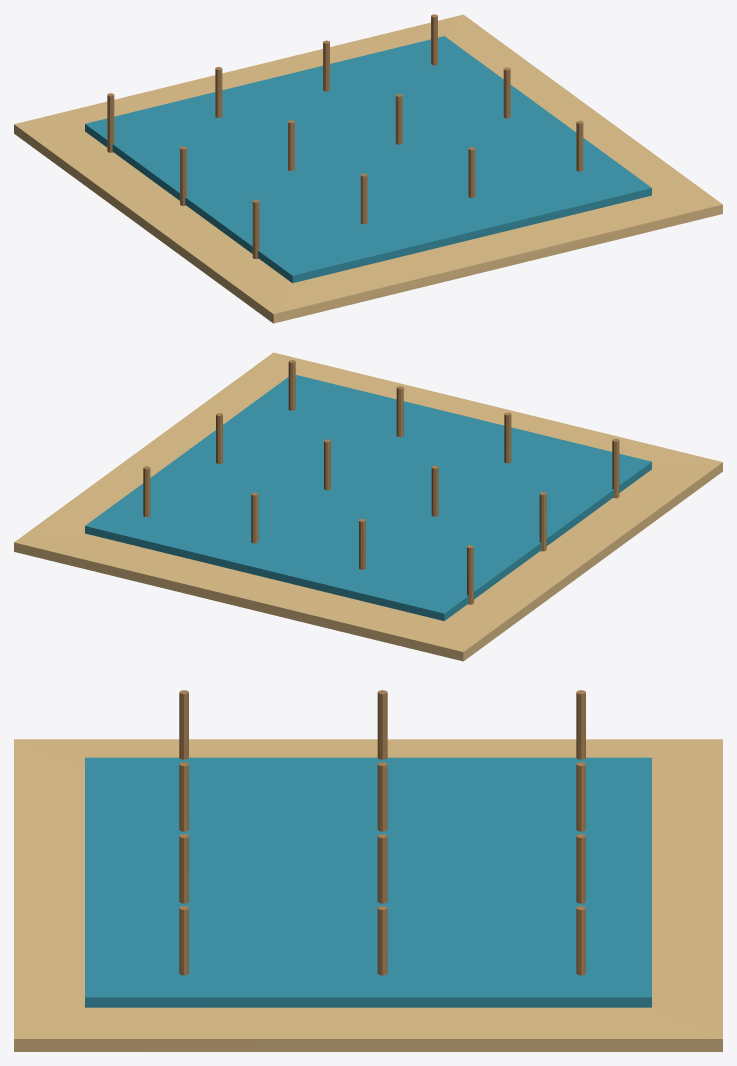
Rendered from wetland.source.glb.
3 renders of one model, top to bottom at view 1: azimuth 30°, elevation 25°; view 2: azimuth 150°, elevation 25°; view 3: azimuth 270°, elevation 25°, orthographic. The views are drawn at different scales.
Visible parts, largest first — view 1: wetland-water-mesh, wetland-base-mesh; view 2: wetland-water-mesh, wetland-base-mesh; view 3: wetland-water-mesh, wetland-base-mesh, wetland-reed-4-mesh, wetland-reed-5-mesh, wetland-reed-7-mesh, wetland-reed-6-mesh, wetland-reed-9-mesh, wetland-reed-2-mesh, wetland-reed-10-mesh, wetland-reed-0-mesh, wetland-reed-1-mesh, wetland-reed-3-mesh (+2 smaller).
Boxes of the visible parts, left/top/right/bottom form: wetland-water-mesh: left=85, top=36, right=651, bottom=283; wetland-base-mesh: left=14, top=14, right=722, bottom=323; wetland-water-mesh: left=85, top=375, right=651, bottom=620; wetland-base-mesh: left=14, top=352, right=722, bottom=661; wetland-water-mesh: left=85, top=757, right=651, bottom=1007; wetland-base-mesh: left=14, top=739, right=722, bottom=1051; wetland-reed-4-mesh: left=377, top=690, right=387, bottom=759; wetland-reed-5-mesh: left=377, top=762, right=387, bottom=831; wetland-reed-7-mesh: left=377, top=906, right=387, bottom=975; wetland-reed-6-mesh: left=377, top=834, right=387, bottom=903; wetland-reed-9-mesh: left=179, top=762, right=188, bottom=831; wetland-reed-2-mesh: left=576, top=834, right=585, bottom=903; wetland-reed-10-mesh: left=179, top=834, right=188, bottom=903; wetland-reed-0-mesh: left=576, top=690, right=585, bottom=759; wetland-reed-1-mesh: left=576, top=762, right=585, bottom=831; wetland-reed-3-mesh: left=576, top=906, right=585, bottom=975.
Size of the model in its own units: 5 by 0.7 by 5.
